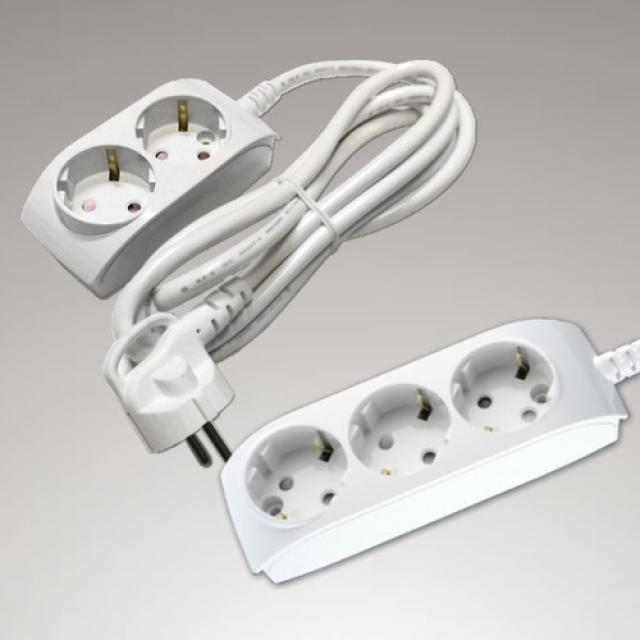typeb: (208, 321, 640, 576), (53, 44, 291, 323)
